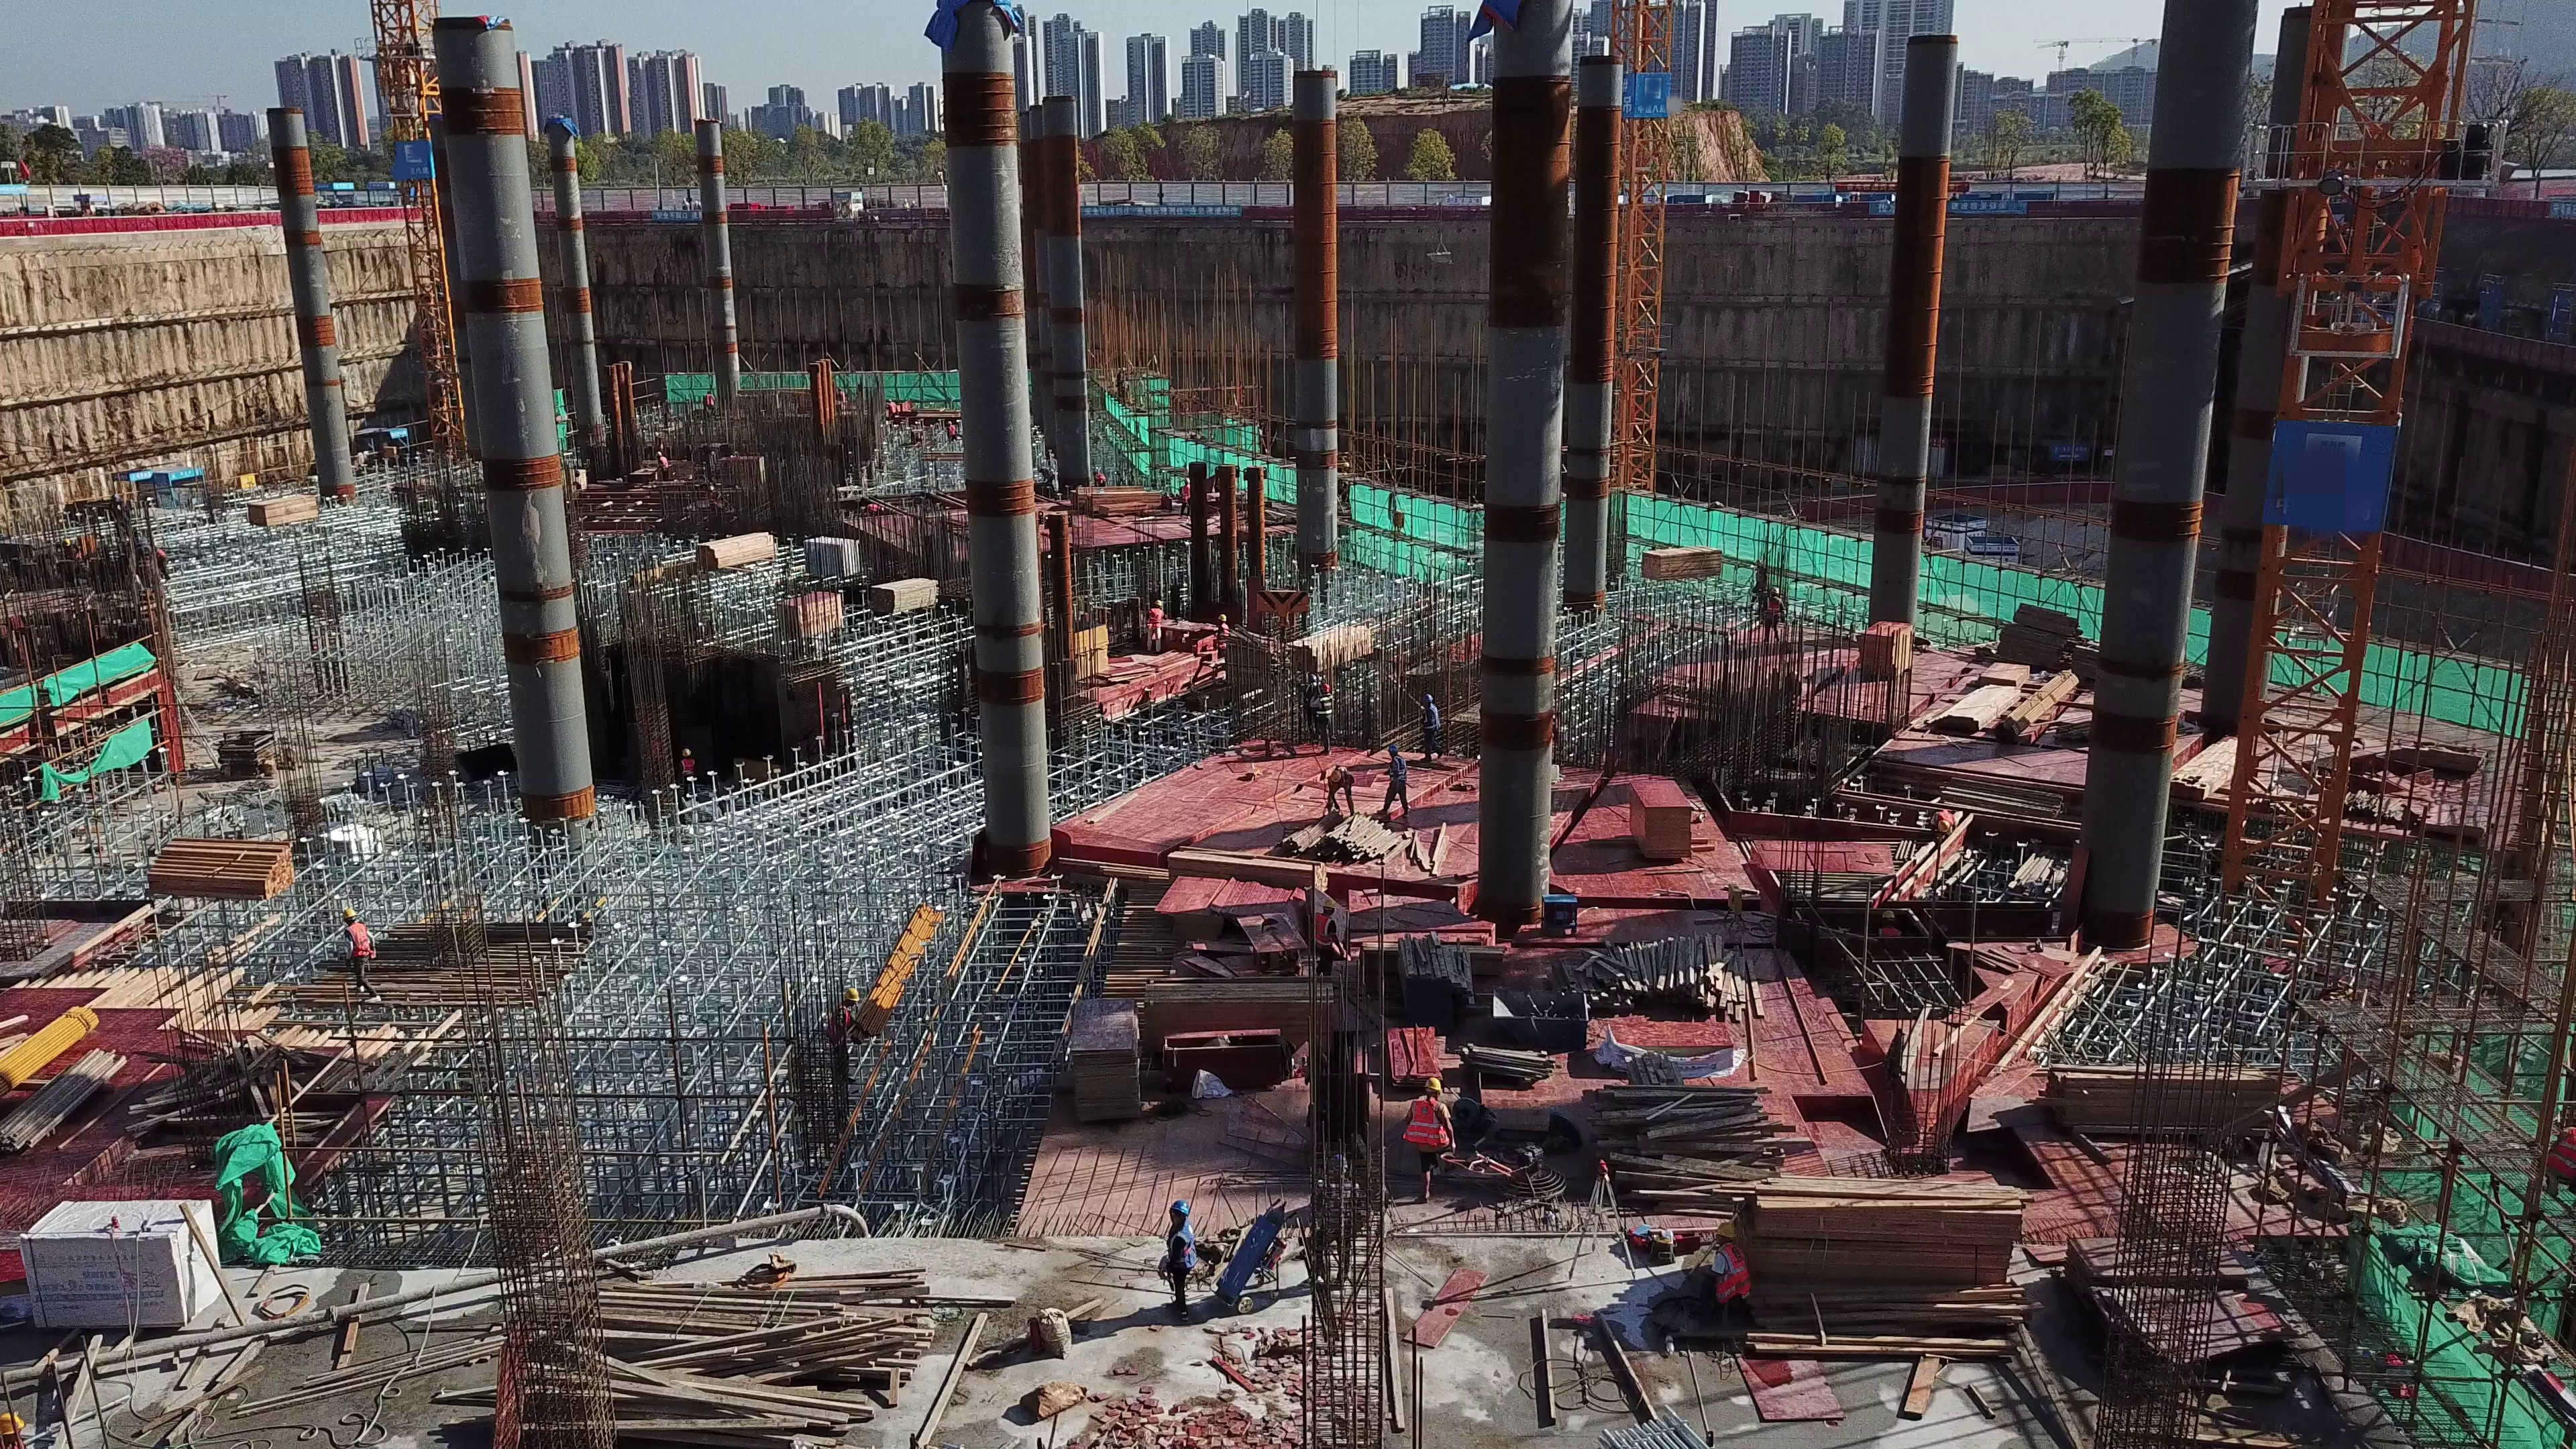board: (1067, 997, 1146, 1132), (1631, 773, 1689, 861), (786, 584, 847, 640), (1859, 616, 1911, 680)
ebox: (1540, 892, 1581, 940), (1725, 881, 1746, 927)
fence: (1614, 176, 2153, 229), (523, 179, 951, 225), (1078, 178, 1511, 219), (1, 208, 284, 240), (299, 209, 421, 230)
helmet: (1712, 1220, 1739, 1242), (1422, 1077, 1448, 1096), (1319, 896, 1336, 912), (1170, 1201, 1191, 1215), (340, 907, 361, 920), (1328, 767, 1342, 786), (843, 988, 859, 1001), (1417, 694, 1433, 703), (679, 747, 692, 757), (1385, 743, 1398, 753), (1318, 683, 1329, 692), (1768, 586, 1780, 593)
person: (1405, 1079, 1454, 1209), (1148, 1199, 1200, 1311), (334, 906, 382, 996), (1707, 1222, 1752, 1308), (822, 987, 858, 1086), (1385, 745, 1416, 830), (1311, 907, 1343, 978), (1414, 694, 1446, 759), (1322, 767, 1354, 824), (1314, 680, 1334, 749), (676, 746, 707, 784), (1764, 584, 1782, 645), (1144, 600, 1163, 653), (1210, 614, 1234, 648), (1177, 478, 1193, 519), (653, 452, 672, 482), (700, 391, 715, 417), (1094, 472, 1107, 490), (945, 421, 957, 440)
slogan: (1077, 202, 1243, 223), (1940, 193, 2028, 215), (648, 208, 706, 225)
vest: (1403, 1097, 1446, 1153), (1161, 1225, 1201, 1273), (1716, 1246, 1750, 1302), (1307, 914, 1333, 951), (345, 924, 372, 957), (1389, 755, 1409, 782), (1417, 708, 1439, 731), (1764, 596, 1782, 621), (1315, 695, 1332, 718), (680, 759, 694, 775)
wood: (538, 1271, 932, 1449), (1725, 1186, 2032, 1359), (1586, 1083, 1787, 1204), (2040, 1067, 2279, 1140), (4, 1004, 127, 1143), (1581, 941, 1750, 1024), (146, 833, 291, 898), (696, 527, 777, 568), (1645, 545, 1725, 585), (244, 494, 319, 527), (1078, 489, 1163, 516)
